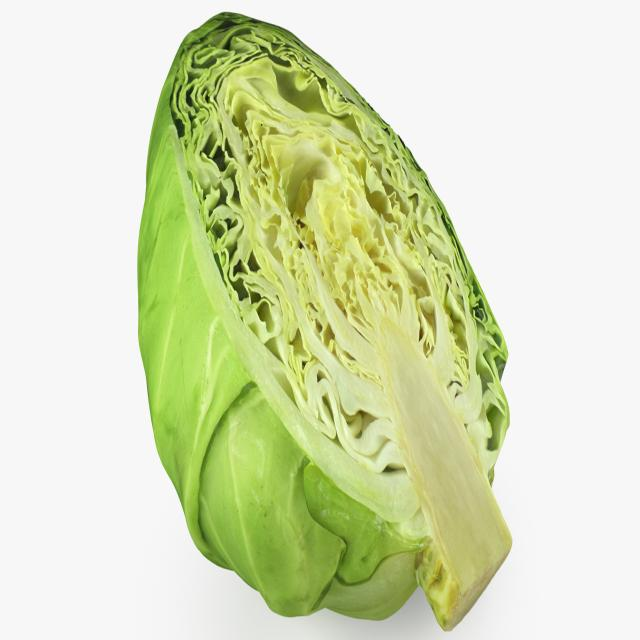haft-cabbage: (134, 12, 518, 640)
